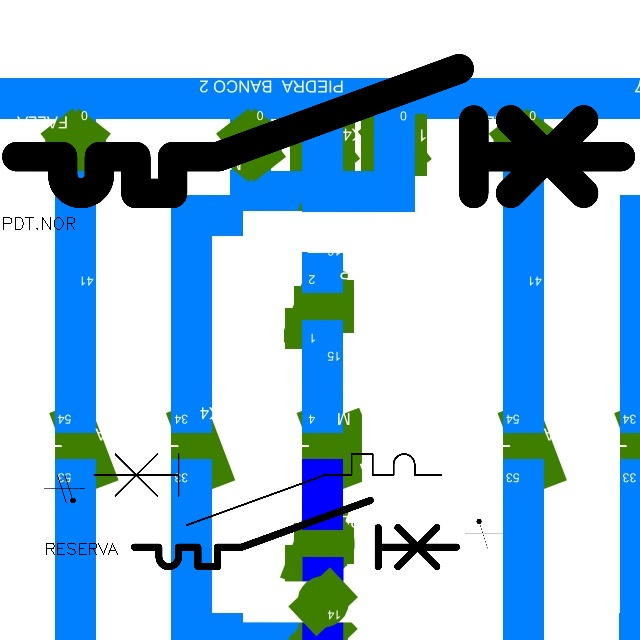interruptor_termomagnetico: (1, 53, 636, 209), (85, 445, 450, 534), (126, 492, 465, 575)
